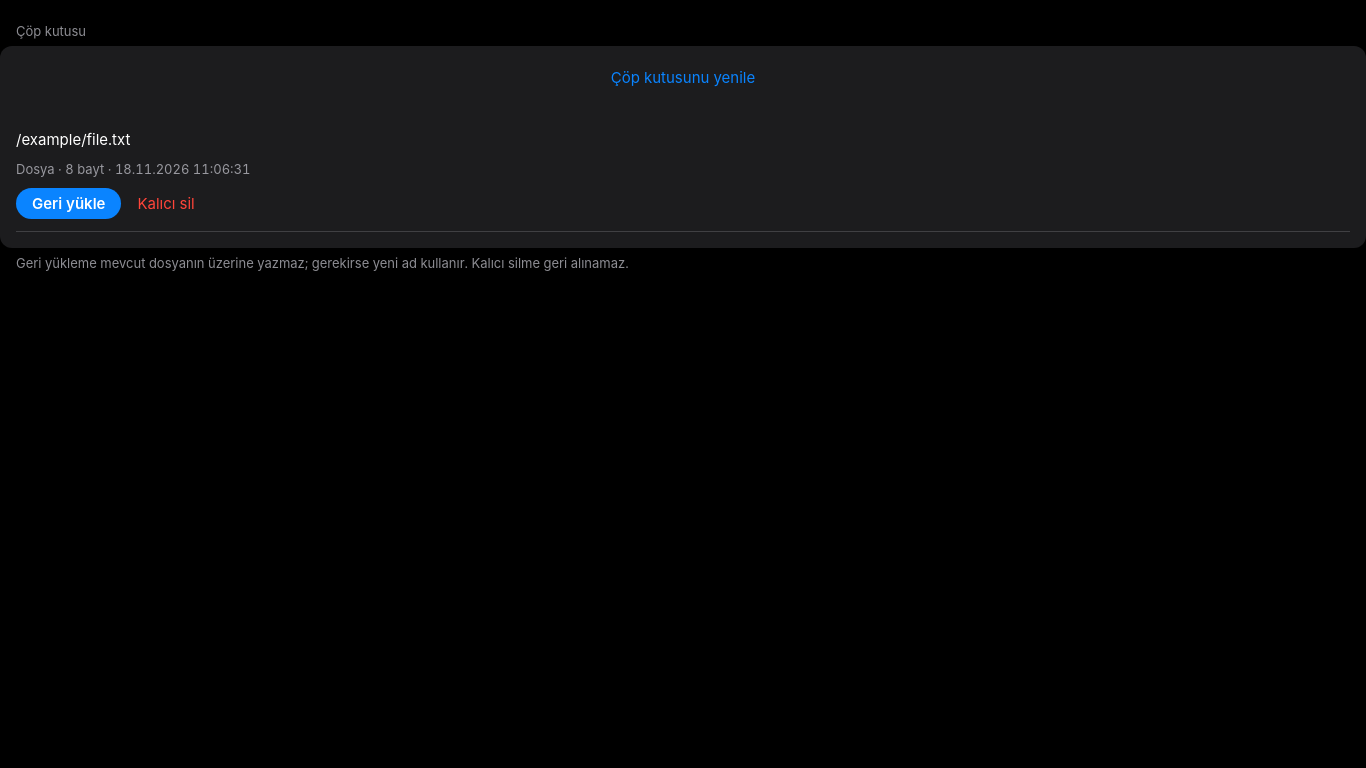
Test: trash_requires_confirmation_and_returns_restore_destination
The image size is (1366, 768).
Click the button "Kalıcı sil": (166, 204) top-left (134, 188), bottom-right (199, 219)
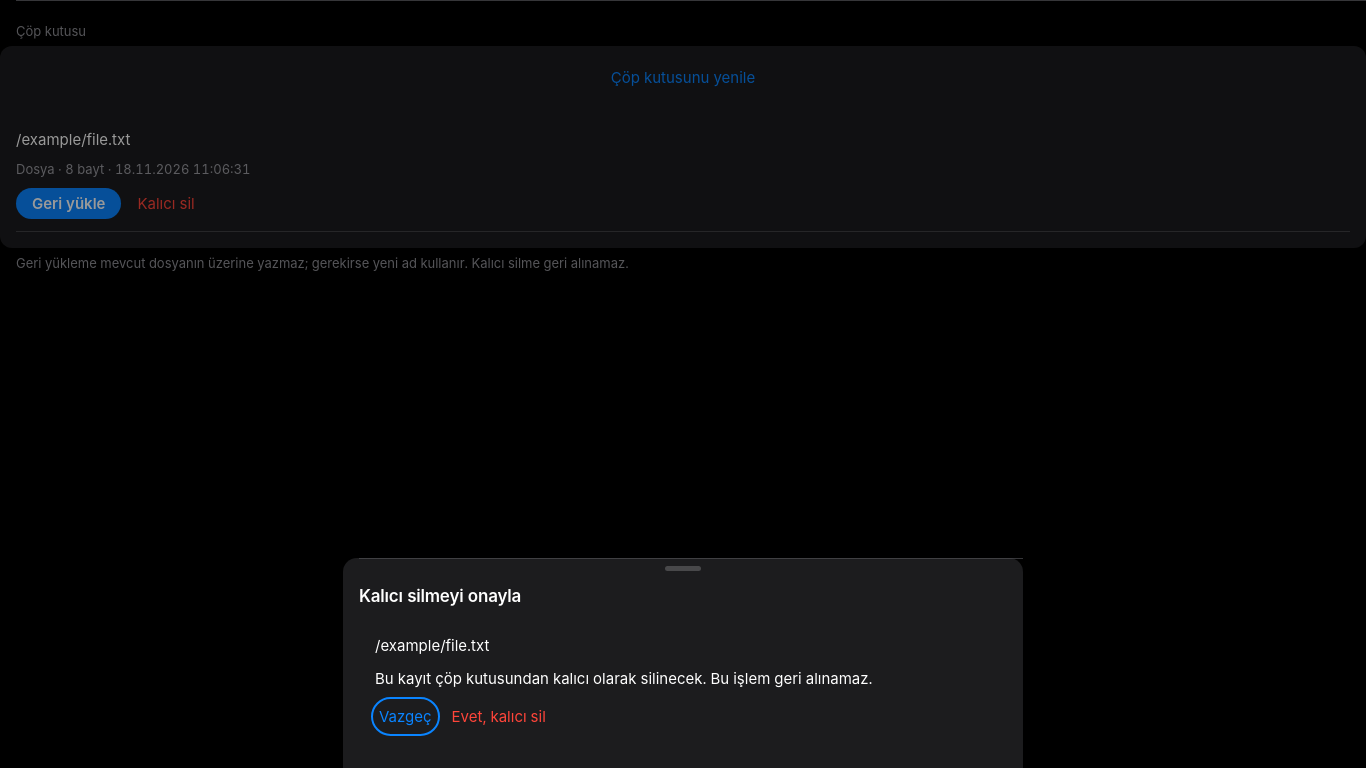
Click the button "Vazgeç": (405, 716) top-left (375, 701), bottom-right (436, 732)
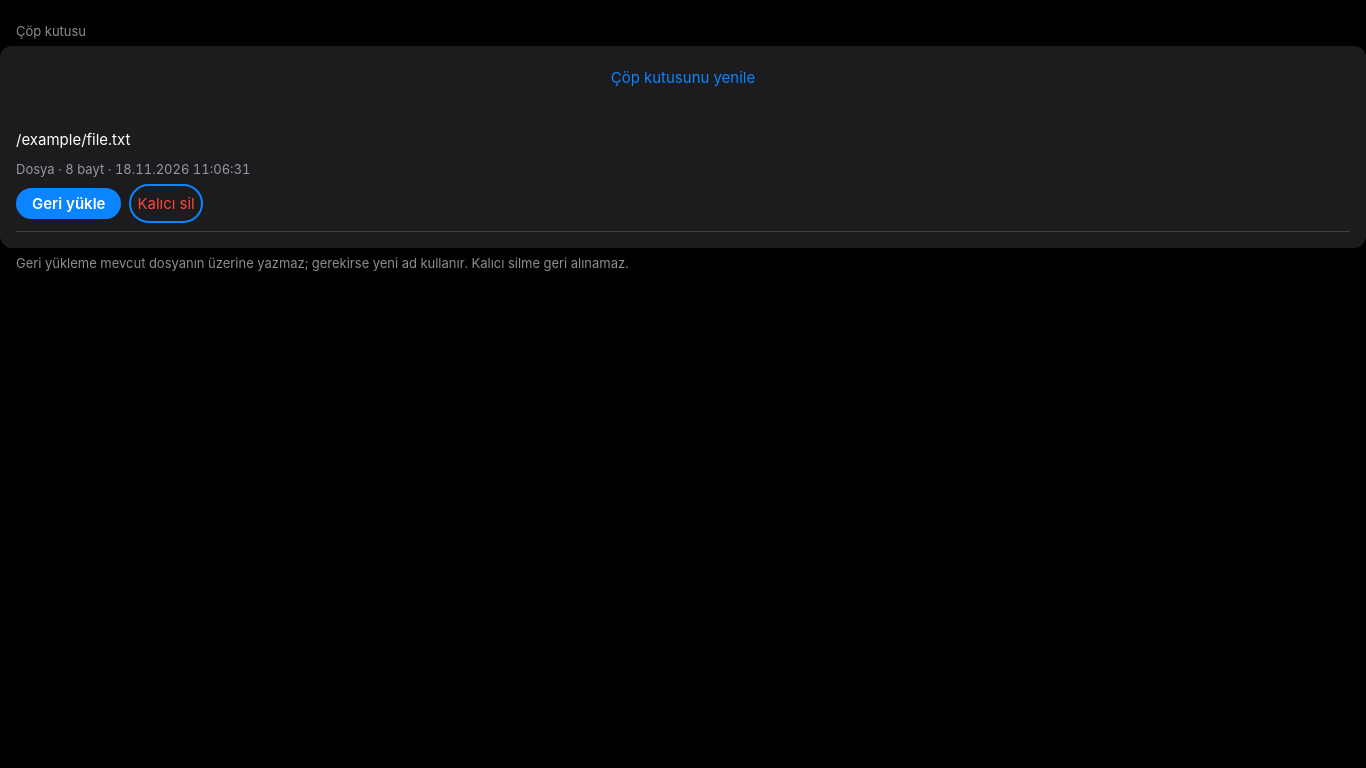
expect the dialog is gone: met
Click the button "Geri yükle": (69, 204) top-left (16, 188), bottom-right (122, 219)
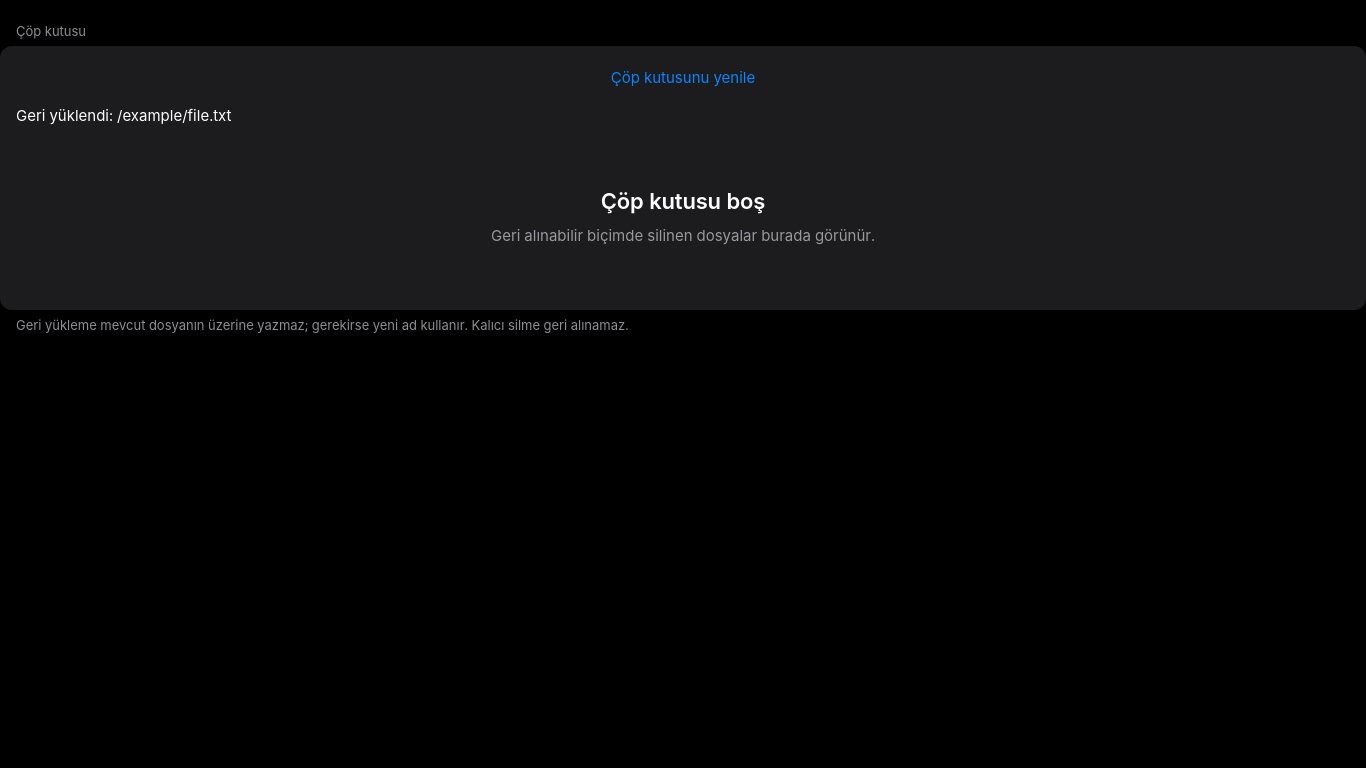
expect the text "Geri yüklendi: /example/file.txt" is shown: met, box top-left (16, 106), bottom-right (232, 125)
